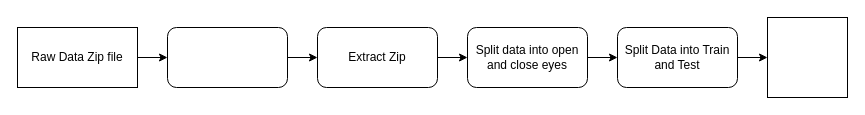
Some shapes in this 865 by 115 pixel diagram are drawn without their labels. Here are the shapes that lost their labels. From the top down, the box of each, then its label:
(166, 26, 288, 88): Download Data
(766, 16, 848, 98): Usable Image Data that can be used for Training and Testing
